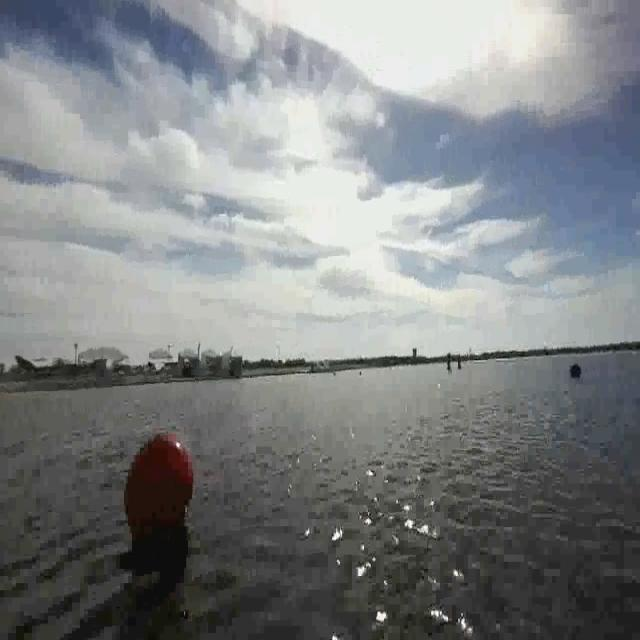red-buoy: (120, 430, 199, 547)
